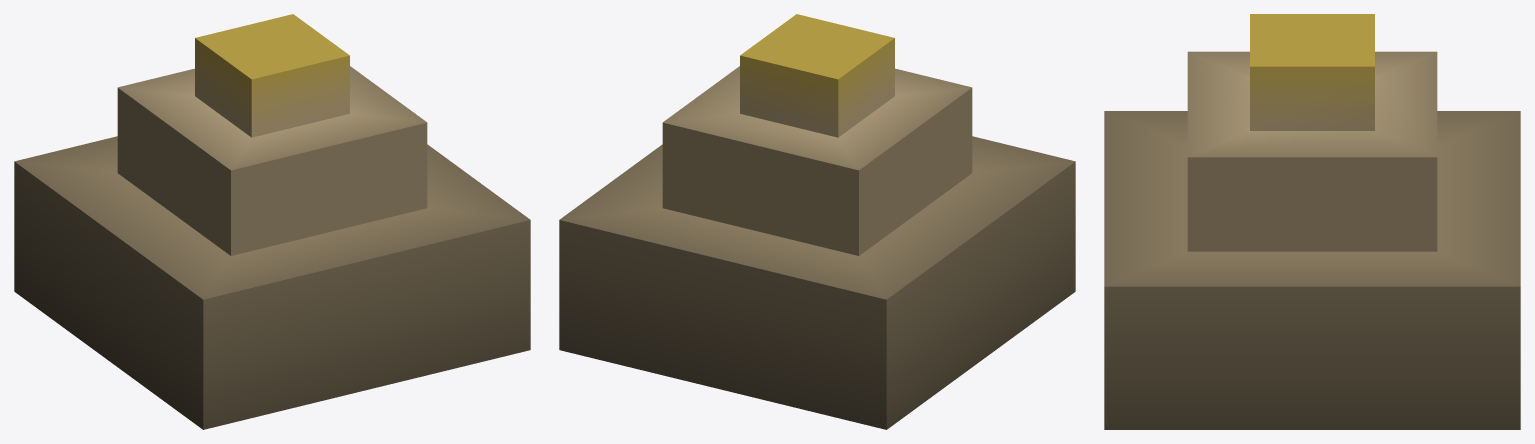
File: Temple.glb
The picture shows the model from 3 angles, left to right: view 1: azimuth 30°, elevation 25°; view 2: azimuth 150°, elevation 25°; view 3: azimuth 270°, elevation 25°; orthographic projection. The views are drawn at different scales.
Parts seen in each view (by area): view 1: Temple; view 2: Temple; view 3: Temple.
Part boxes in pixels (x1,y1,x2,y2): Temple: (14,14,530,429); Temple: (559,14,1075,429); Temple: (1104,14,1520,429).
Size of the model in its own units: 1 by 0.8 by 1.
